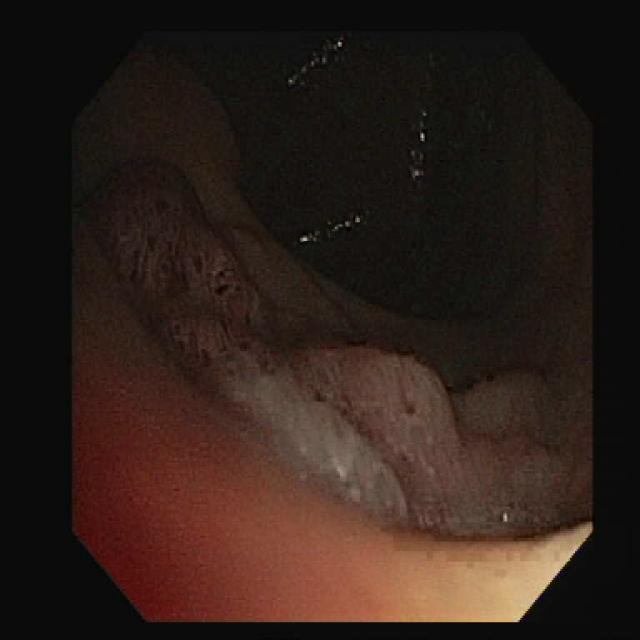tumor: (87, 164, 570, 533)
